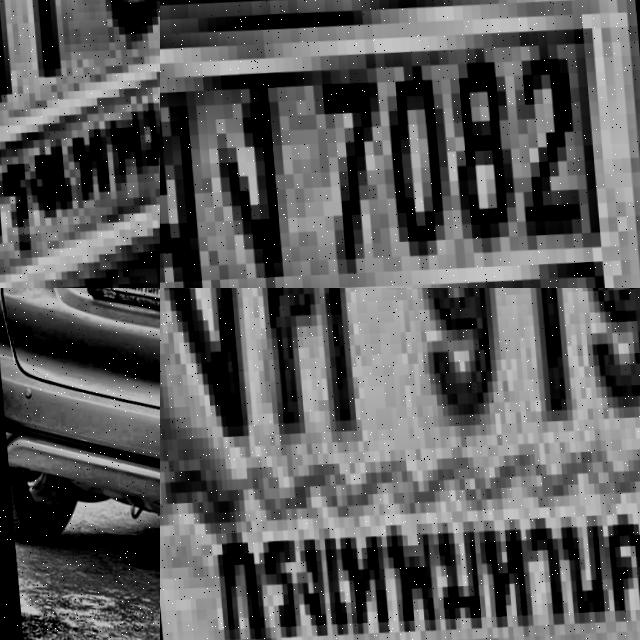license-plate: (160, 288, 640, 640), (160, 0, 640, 288), (0, 0, 160, 288), (77, 288, 160, 319)
